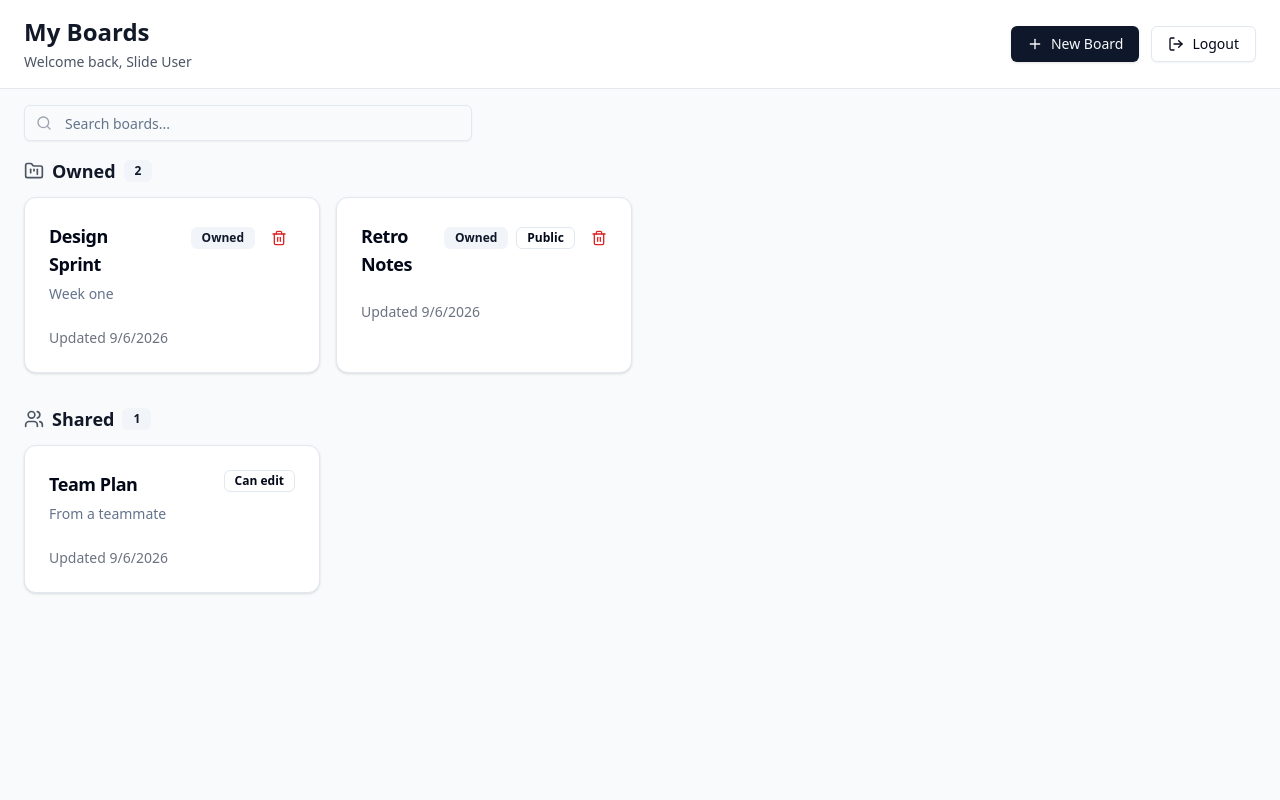
Test: BoardsList › filters boards by search
This screenshot has width=1280, height=800.
Expected: the heading "Design Sprint" is shown, left=49, top=224, right=108, bottom=276
Type "retro" into the field with placeholder "Search boards..." at {"x": 248, "y": 123}, box left=24, top=105, right=472, bottom=141
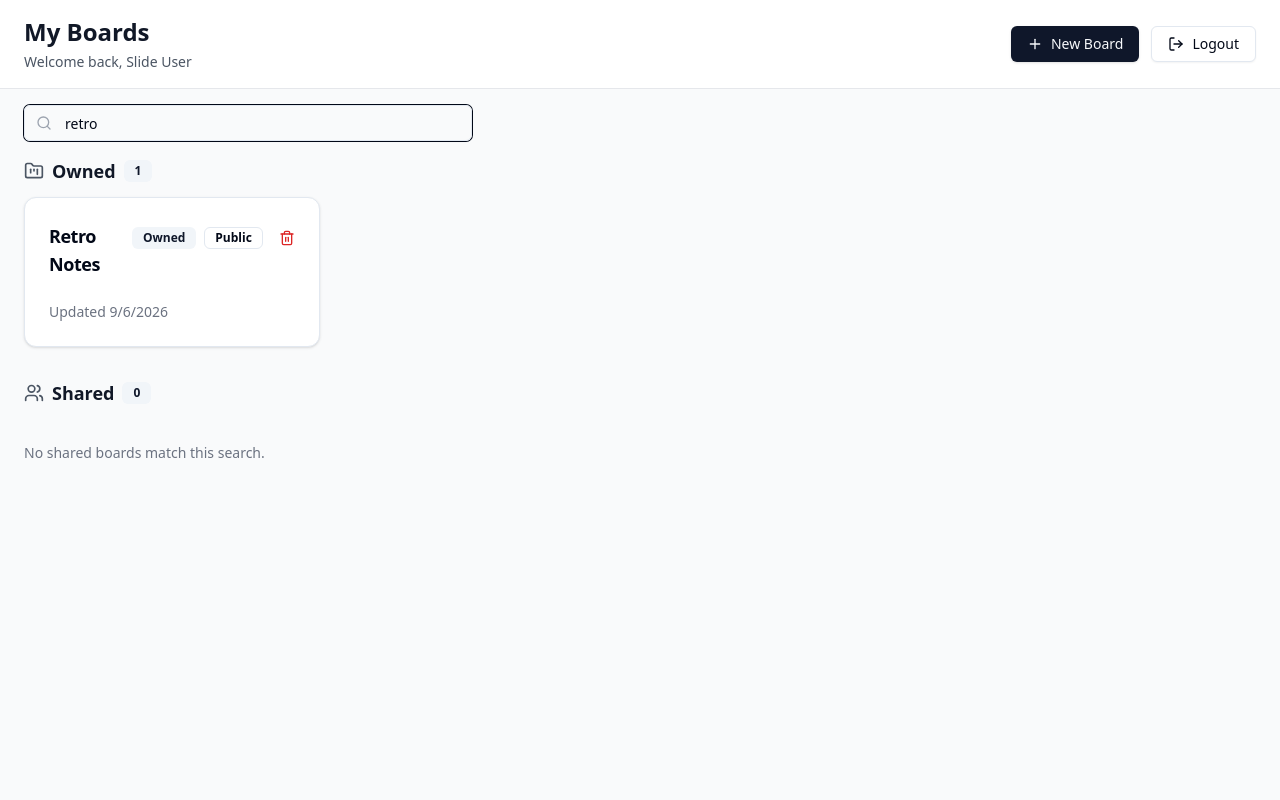
Expected: the heading "Retro Notes" is shown, left=49, top=224, right=100, bottom=276
Expected: the heading "Design Sprint" is gone
Expected: the heading "Team Plan" is gone
